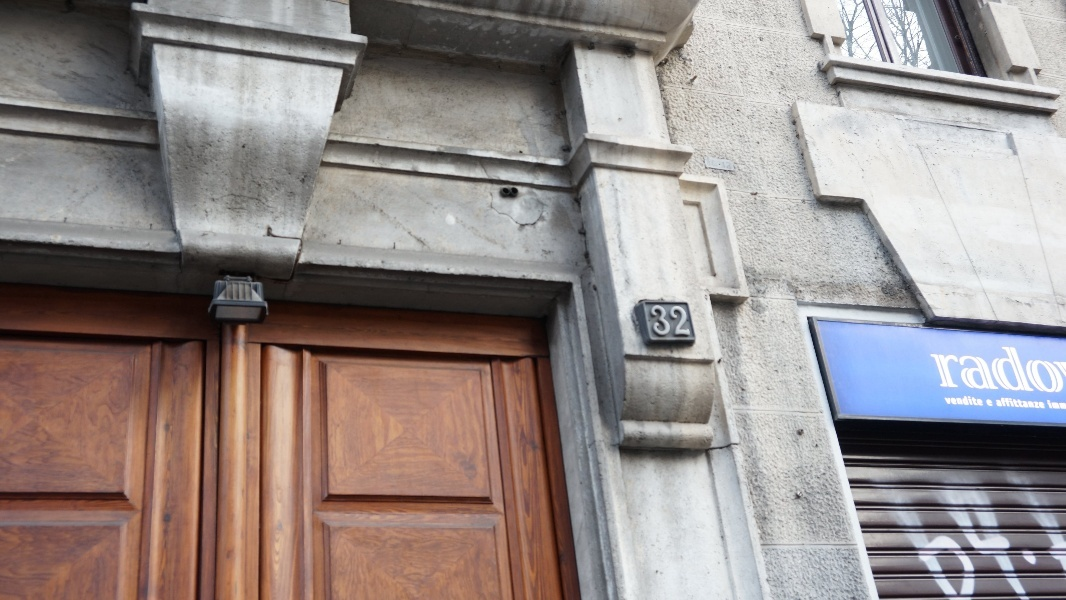text: (881, 471, 896, 599), (897, 471, 912, 599), (913, 471, 928, 599), (929, 471, 944, 599), (945, 471, 960, 599), (961, 471, 976, 599), (977, 471, 992, 599), (993, 471, 1008, 599), (1009, 471, 1024, 599), (1025, 471, 1040, 599), (1041, 471, 1056, 599), (873, 471, 880, 599), (1057, 471, 1064, 599), (929, 346, 944, 394), (945, 346, 960, 394), (961, 346, 976, 394), (977, 346, 992, 394), (993, 346, 1008, 394), (1009, 346, 1024, 394), (1025, 346, 1040, 394), (1041, 346, 1056, 394), (657, 305, 672, 337), (673, 305, 688, 337), (1057, 346, 1064, 394), (649, 305, 656, 337), (1009, 397, 1024, 409), (1025, 397, 1040, 409), (945, 396, 960, 407), (961, 396, 976, 407), (995, 397, 1008, 409), (1046, 399, 1056, 410), (1057, 399, 1065, 410), (977, 396, 984, 407), (689, 305, 691, 337), (1041, 397, 1046, 409), (986, 399, 992, 407), (927, 346, 928, 394), (943, 396, 944, 407), (993, 399, 994, 407)
